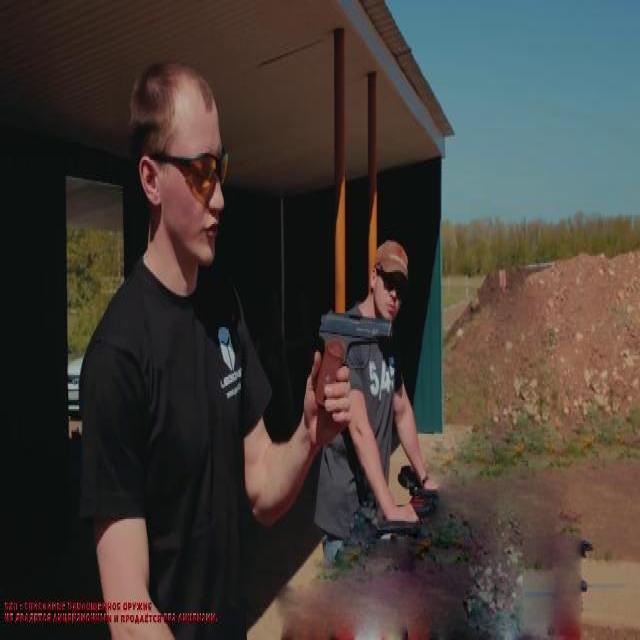pistol: (314, 304, 392, 412)
